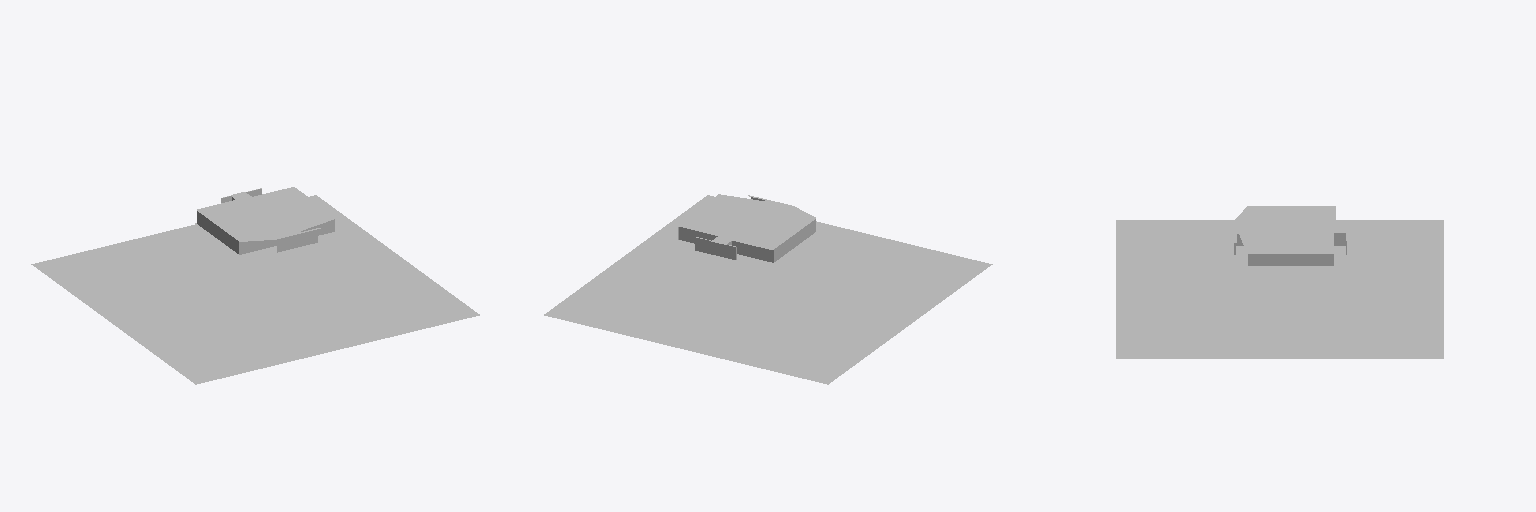
File: 1-2_col new.obj
3 renders of one model, left to right at view 1: azimuth 30°, elevation 25°; view 2: azimuth 150°, elevation 25°; view 3: azimuth 270°, elevation 25°, orthographic.
Parts seen in each view (by area): view 1: Plane.002, Plane.001, Cube.002_Cube.004, Cube.010_Cube.014; view 2: Plane.002, Plane.001, Cube.002_Cube.004, Cube.011_Cube.015; view 3: Plane.002, Plane.001, Cube.003_Cube.007.
Boxes of the visible parts, x1=… form: Plane.002: x1=31, y1=195, x2=479, y2=384; Plane.001: x1=197, y1=187, x2=336, y2=241; Cube.002_Cube.004: x1=197, y1=211, x2=239, y2=254; Cube.010_Cube.014: x1=277, y1=229, x2=317, y2=252; Plane.002: x1=544, y1=195, x2=992, y2=384; Plane.001: x1=677, y1=194, x2=815, y2=249; Cube.002_Cube.004: x1=773, y1=219, x2=815, y2=262; Cube.011_Cube.015: x1=695, y1=237, x2=736, y2=259; Plane.002: x1=1116, y1=220, x2=1443, y2=358; Plane.001: x1=1234, y1=206, x2=1347, y2=253; Cube.003_Cube.007: x1=1248, y1=254, x2=1333, y2=265.
Bounding box in the file's own units: 144 × 32.62 × 144.